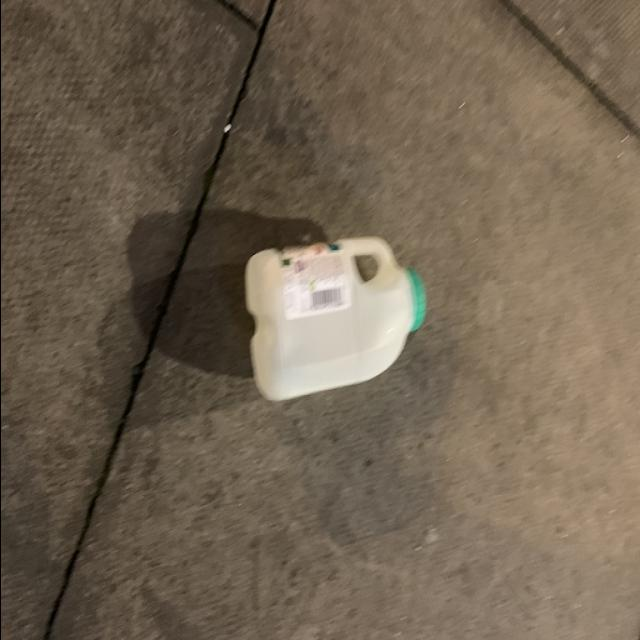litter: (245, 235, 424, 404)
